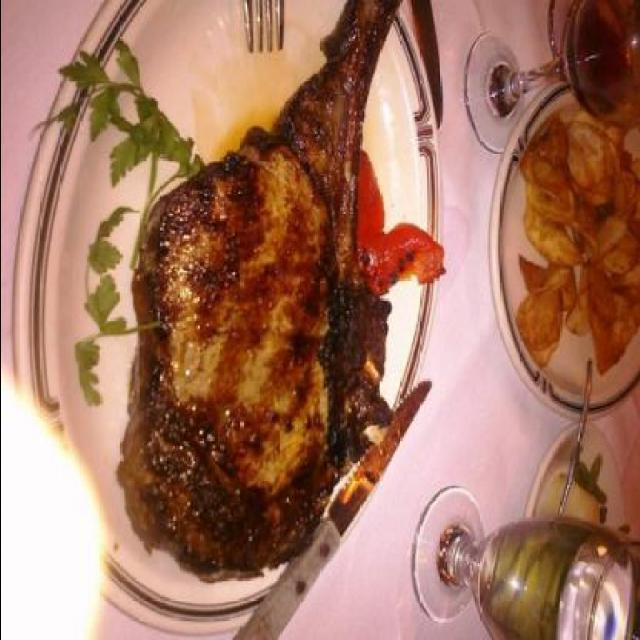Steak: (138, 26, 424, 568)
